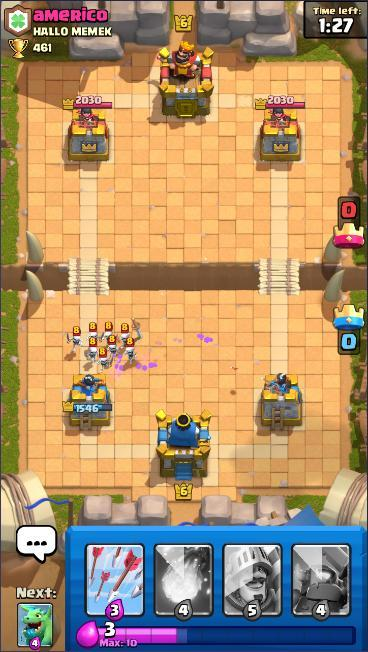enemy_skeleton: (65, 324, 84, 354), (120, 336, 139, 366), (93, 348, 112, 373), (116, 322, 134, 348), (101, 320, 117, 347), (84, 338, 101, 363), (86, 320, 100, 348), (105, 334, 119, 359)
